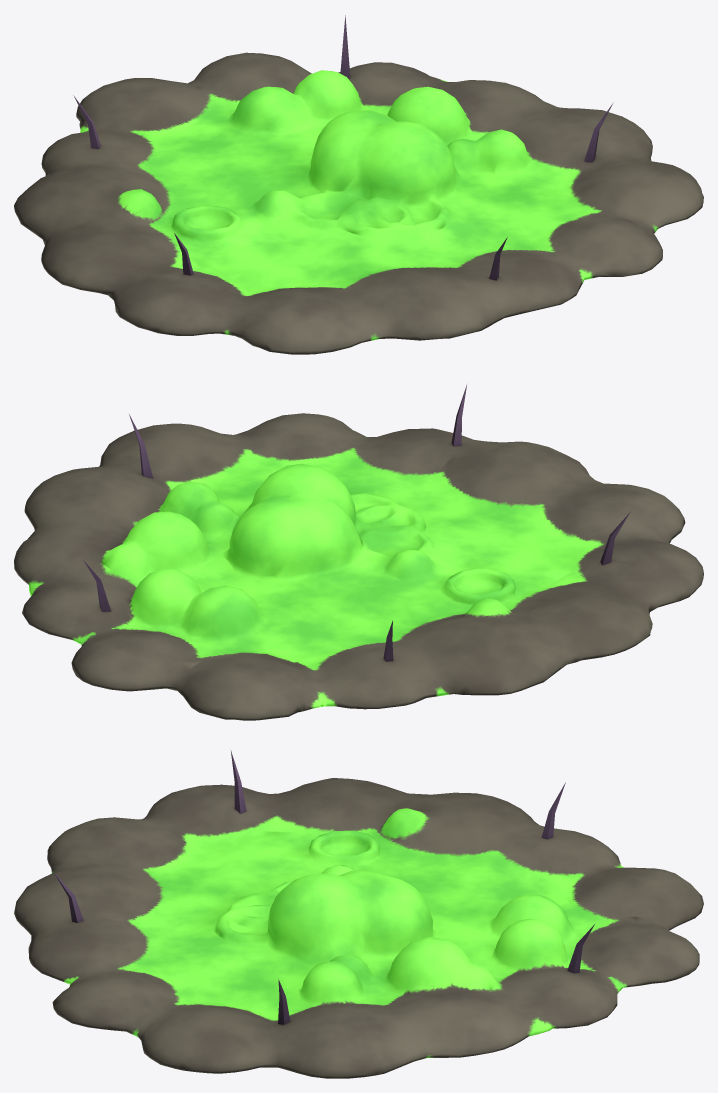
Rendered from pantano_burbuja.fbx.
The picture shows the model from 3 angles, top to bottom: view 1: azimuth 30°, elevation 25°; view 2: azimuth 150°, elevation 25°; view 3: azimuth 270°, elevation 25°; orthographic projection. The views are drawn at different scales.
Visible parts, largest first — view 1: pantano; view 2: pantano; view 3: pantano.
Part boxes in pixels (x1,y1,x2,y2): pantano: [14, 15, 703, 354]; pantano: [14, 385, 703, 720]; pantano: [14, 751, 703, 1078].
Bounding box in the file's own units: 4 × 0.4992 × 4.
Materials: 1 (1 with a texture image).
